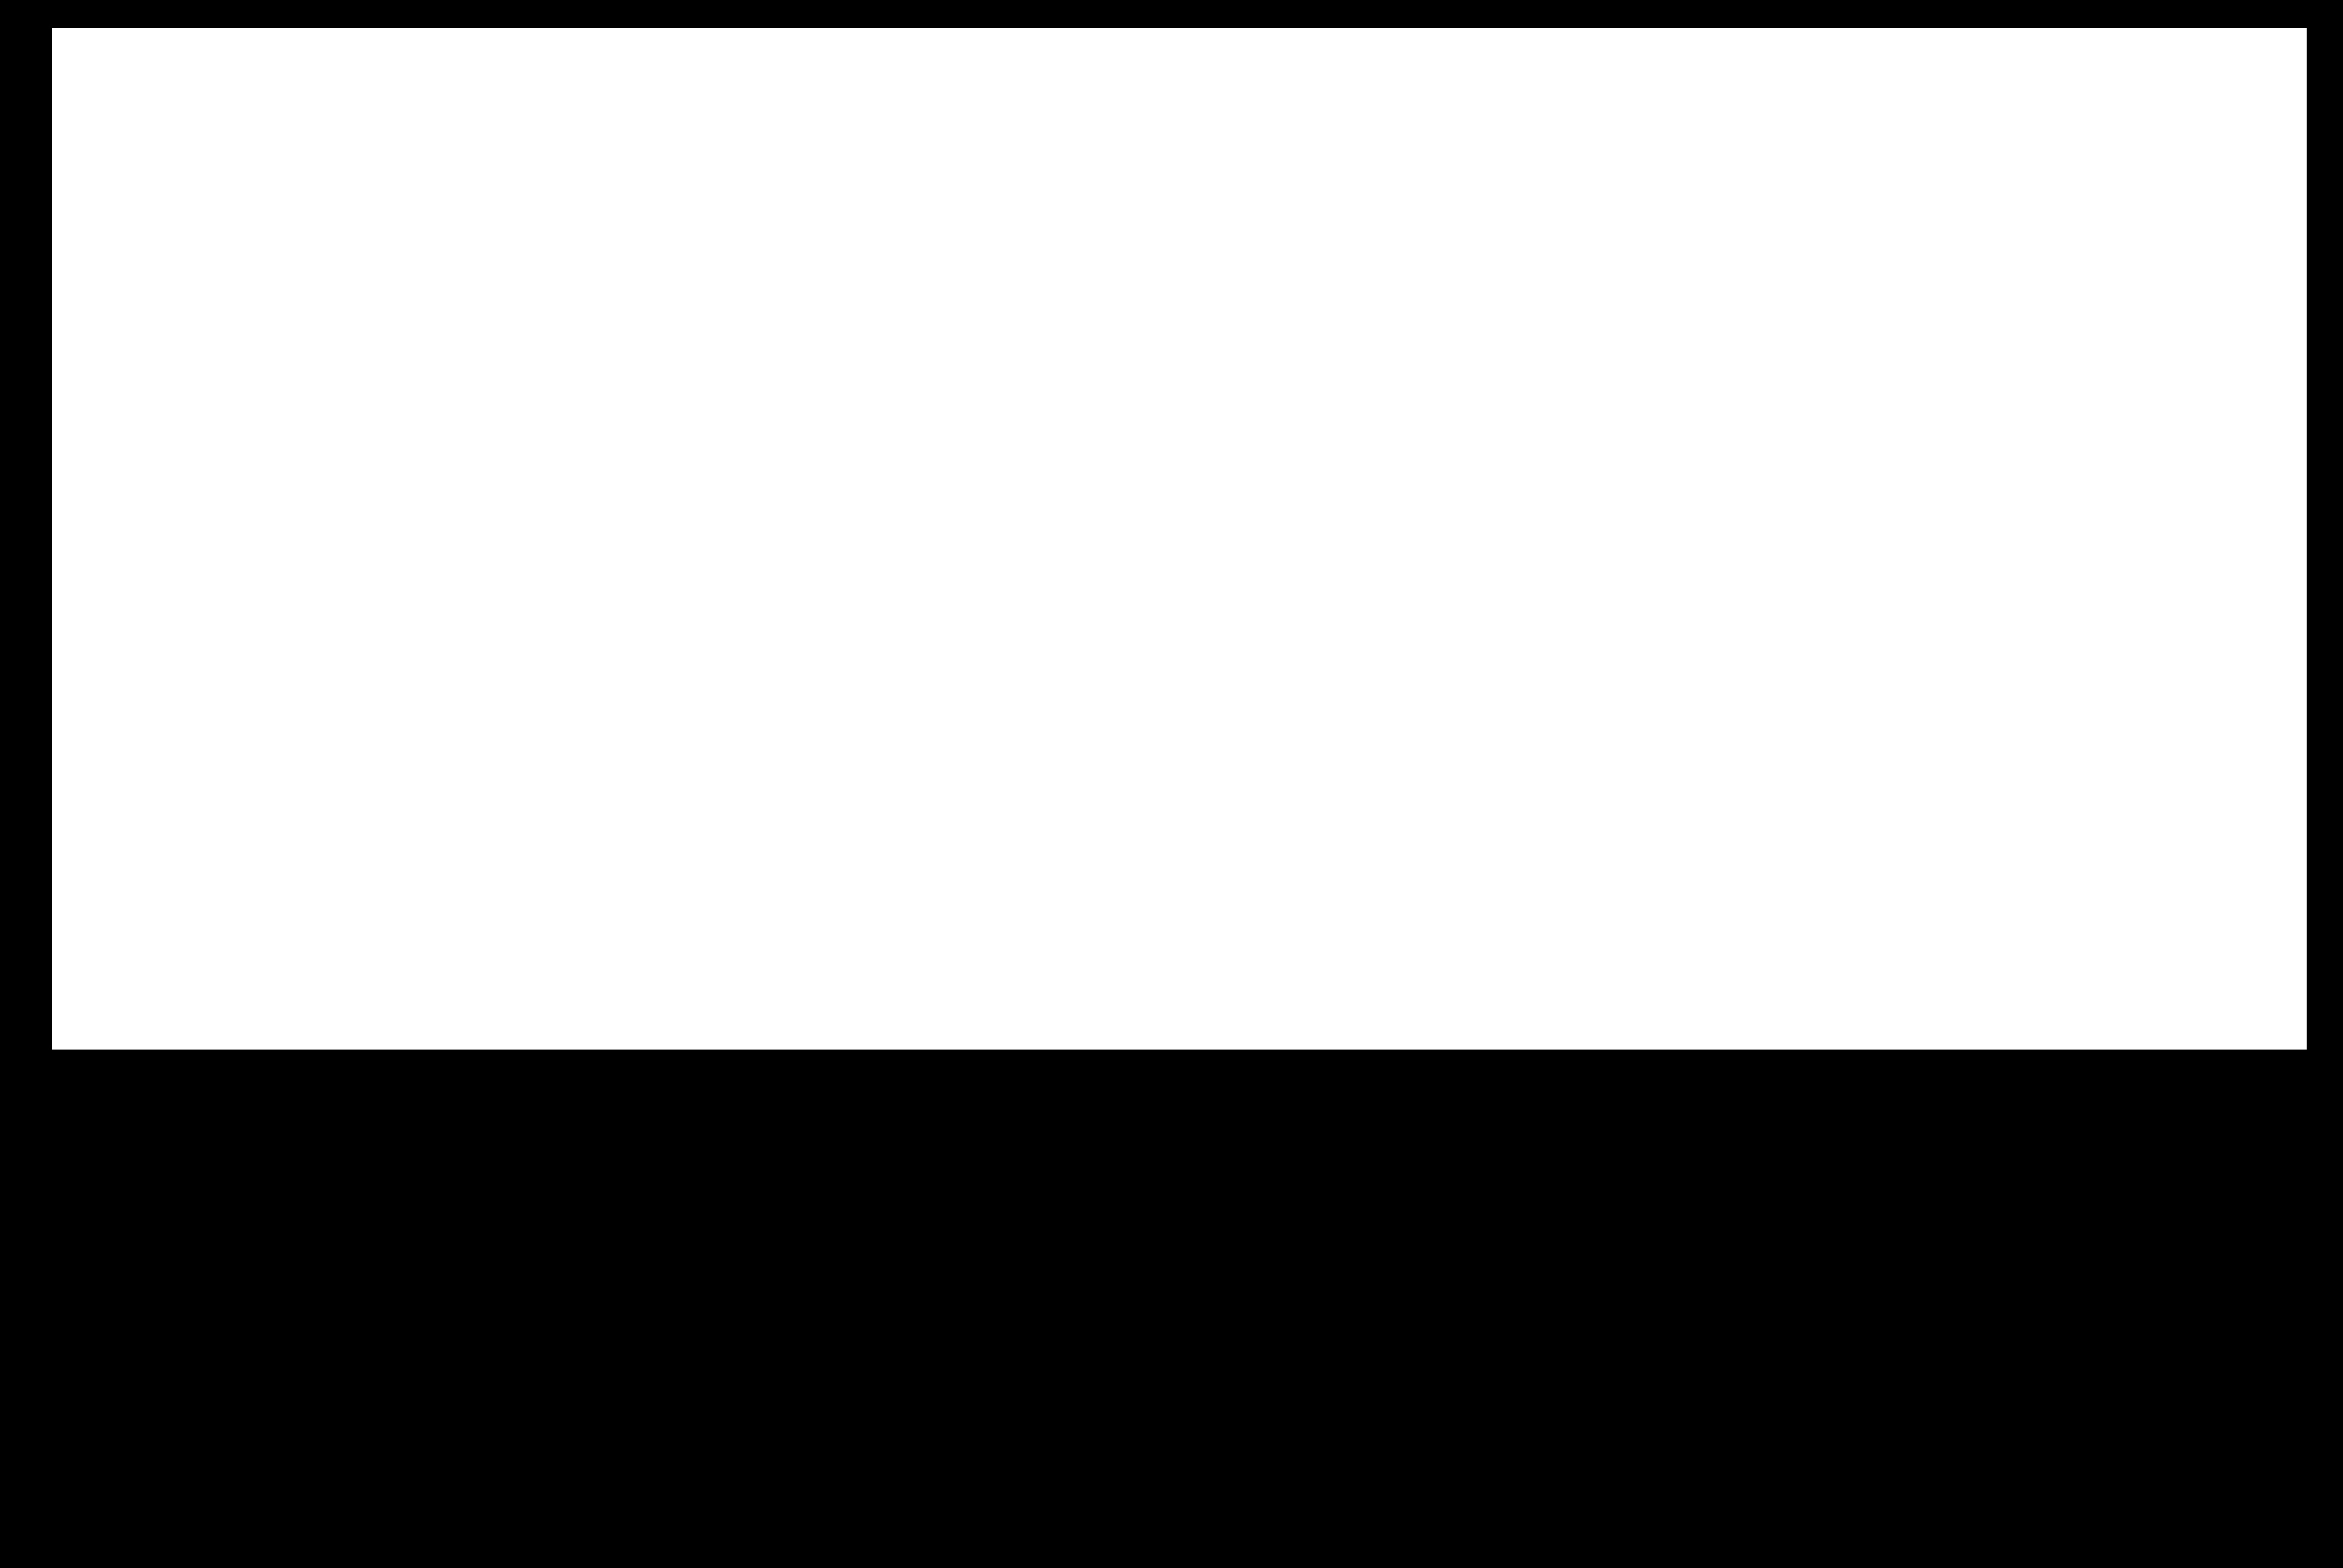fire: (52, 28, 2306, 1048)
